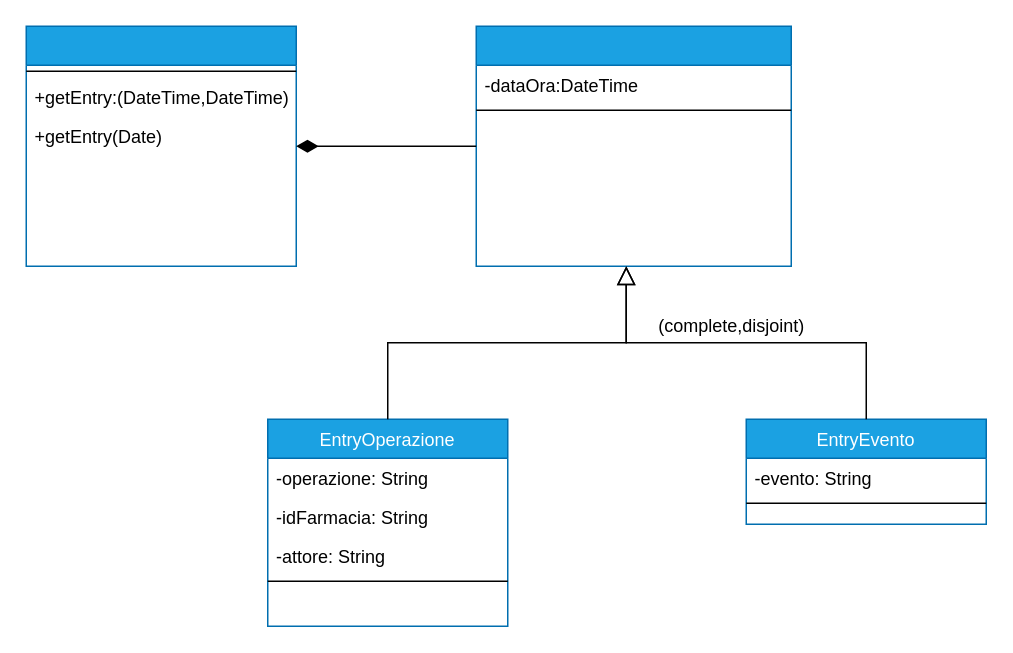
This 1013x653 diagram has some shape labels left out. The shapes that lost their labels are listed below. From the top down, each one's box as (x1, y1, x2, y2) in pixels, then its label:
(25, 25, 296, 266): Log
(475, 25, 791, 266): Entry
